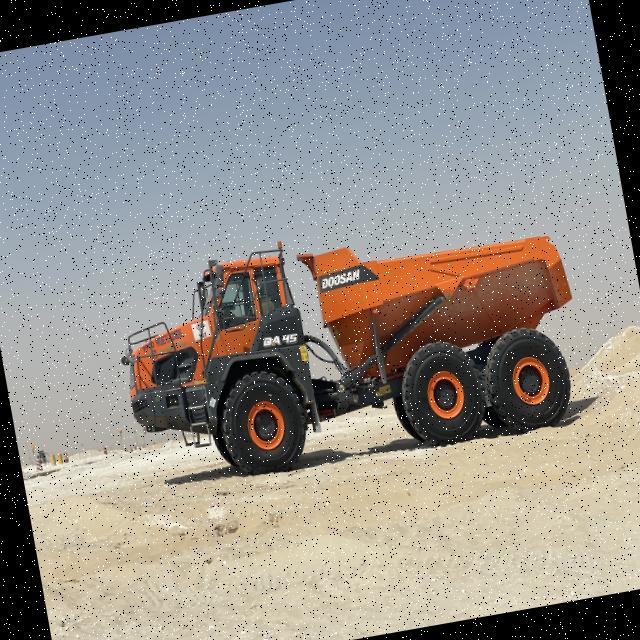Dump Truck: (102, 187, 598, 503)
